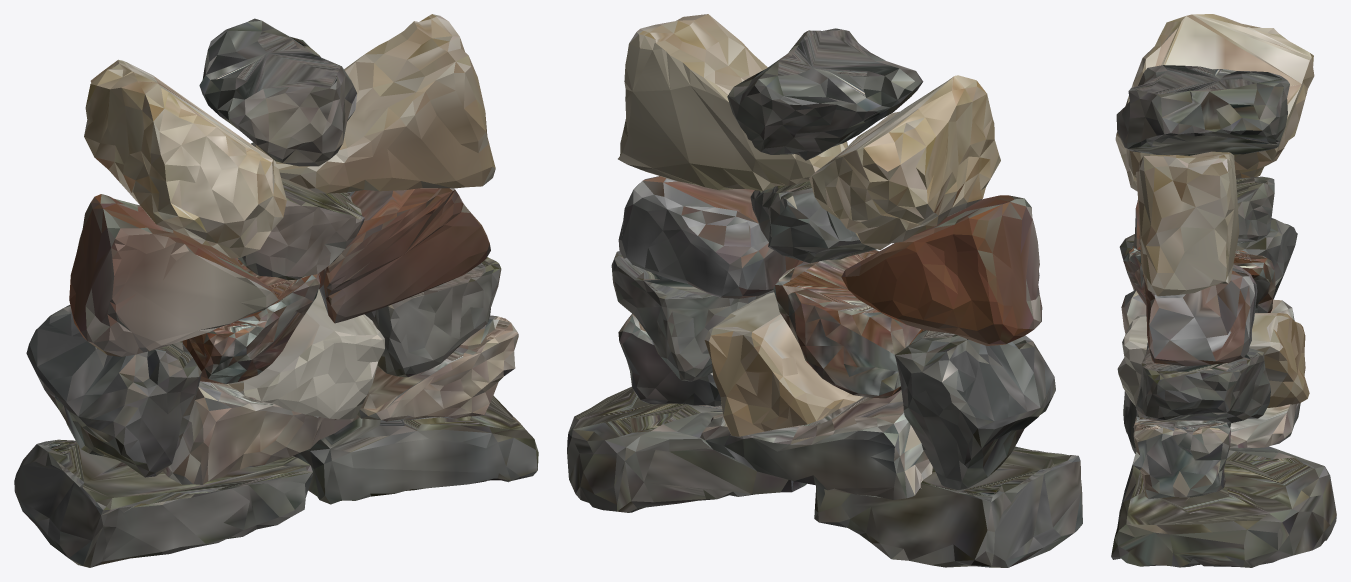
Rendered from conjunto-de-piedras-simil-pared.glb.
3 views of the same model, side by side, from view 1: azimuth 30°, elevation 25°; view 2: azimuth 150°, elevation 25°; view 3: azimuth 270°, elevation 25° (orthographic). The views are drawn at different scales.
Parts seen in each view (by area): view 1: SketchUp, SketchUp.005, SketchUp.004, SketchUp.009, SketchUp.007, SketchUp.002, SketchUp.012, SketchUp.008; view 2: SketchUp, SketchUp.004, SketchUp.005, SketchUp.009, SketchUp.007, SketchUp.002, SketchUp.012, SketchUp.008; view 3: SketchUp, SketchUp.004, SketchUp.005, SketchUp.007, SketchUp.002, SketchUp.012, SketchUp.008.
Boxes of the visible parts, x1=… form: SketchUp: x1=14, y1=18, x2=538, y2=567; SketchUp.005: x1=84, y1=59, x2=286, y2=258; SketchUp.004: x1=254, y1=14, x2=495, y2=193; SketchUp.009: x1=69, y1=194, x2=278, y2=356; SketchUp.007: x1=162, y1=315, x2=518, y2=484; SketchUp.002: x1=319, y1=188, x2=490, y2=323; SketchUp.012: x1=226, y1=289, x2=384, y2=419; SketchUp.008: x1=182, y1=258, x2=320, y2=383; SketchUp: x1=567, y1=28, x2=1082, y2=567; SketchUp.004: x1=618, y1=14, x2=847, y2=190; SketchUp.005: x1=809, y1=75, x2=1000, y2=250; SketchUp.009: x1=841, y1=195, x2=1042, y2=345; SketchUp.007: x1=618, y1=314, x2=933, y2=499; SketchUp.002: x1=618, y1=176, x2=802, y2=298; SketchUp.012: x1=704, y1=292, x2=863, y2=436; SketchUp.008: x1=773, y1=250, x2=924, y2=398; SketchUp: x1=1111, y1=65, x2=1336, y2=567; SketchUp.004: x1=1136, y1=151, x2=1239, y2=296; SketchUp.005: x1=1115, y1=14, x2=1314, y2=190; SketchUp.007: x1=1121, y1=290, x2=1300, y2=498; SketchUp.002: x1=1142, y1=264, x2=1257, y2=366; SketchUp.012: x1=1117, y1=313, x2=1309, y2=407; SketchUp.008: x1=1123, y1=246, x2=1275, y2=312.
Bounding box in the file's own units: 1.38 × 1.29 × 0.6583.
8 materials, 8 textured.
